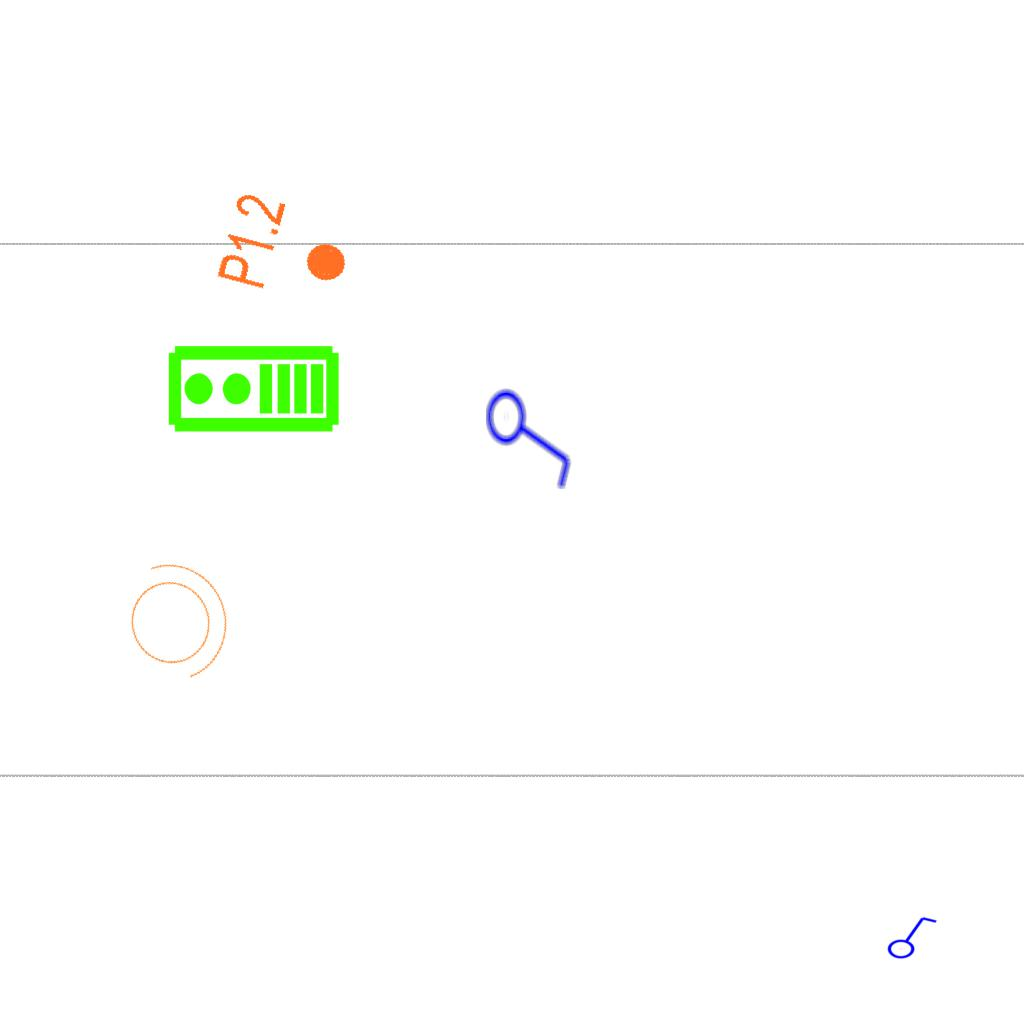Ausschalter: (484, 379, 580, 491), (882, 912, 938, 960)
Downlight_LED_Einbauleuchten_Flur: (212, 188, 361, 312)
Gegensprechanlage_mit_Video: (165, 343, 341, 438)
Scheinwerfer_fuer_Alarmbeleuchtung: (98, 536, 250, 700)
